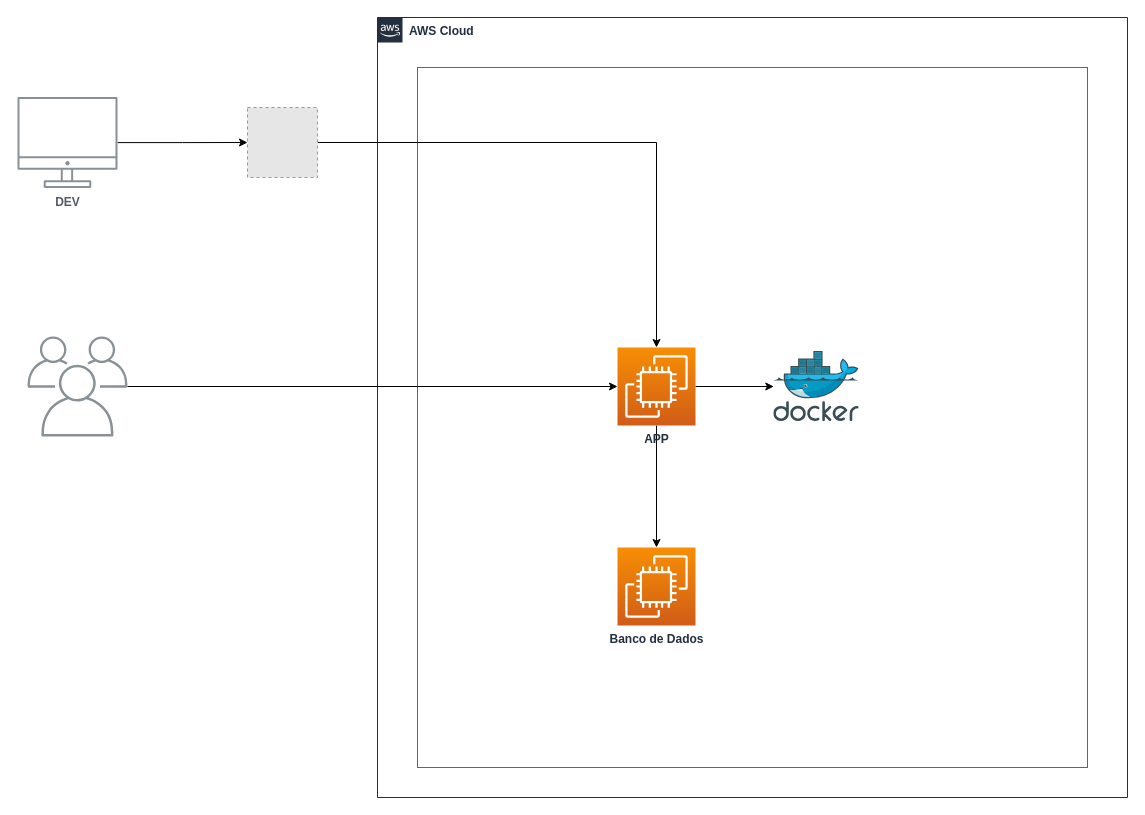
Image size: 1145x815. Some labels were removed from this diagram. Grey dashed boxes stand in for pictures. The box of each missing label's shape, as (x1, y1, x2, y2) in pixels:
Security group: (416, 66, 1088, 768)
users: (27, 336, 127, 436)
